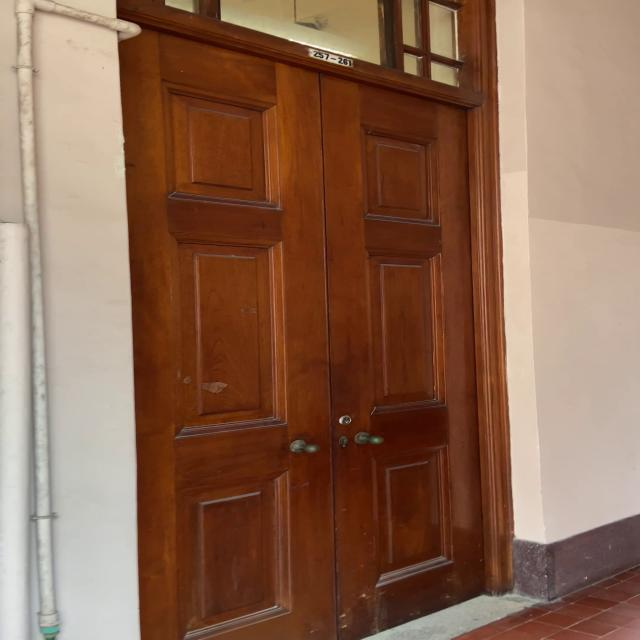room257: (304, 44, 357, 72)
room257door: (117, 6, 492, 640)
